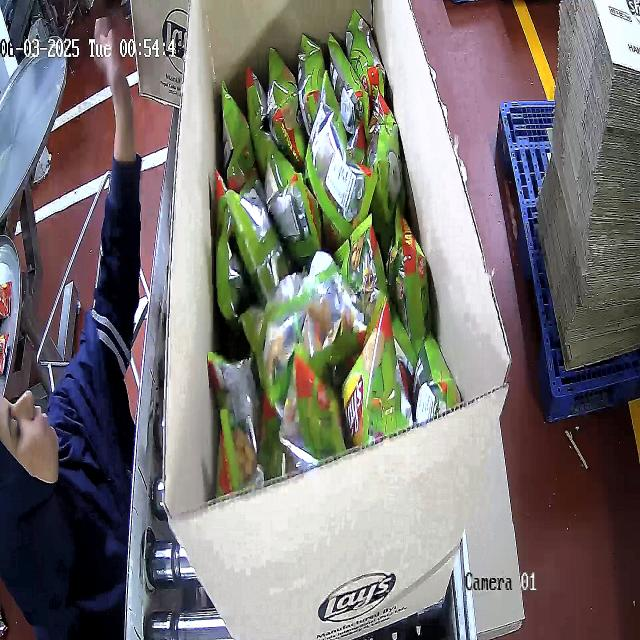YOGURT_HERB: (211, 14, 461, 486)
